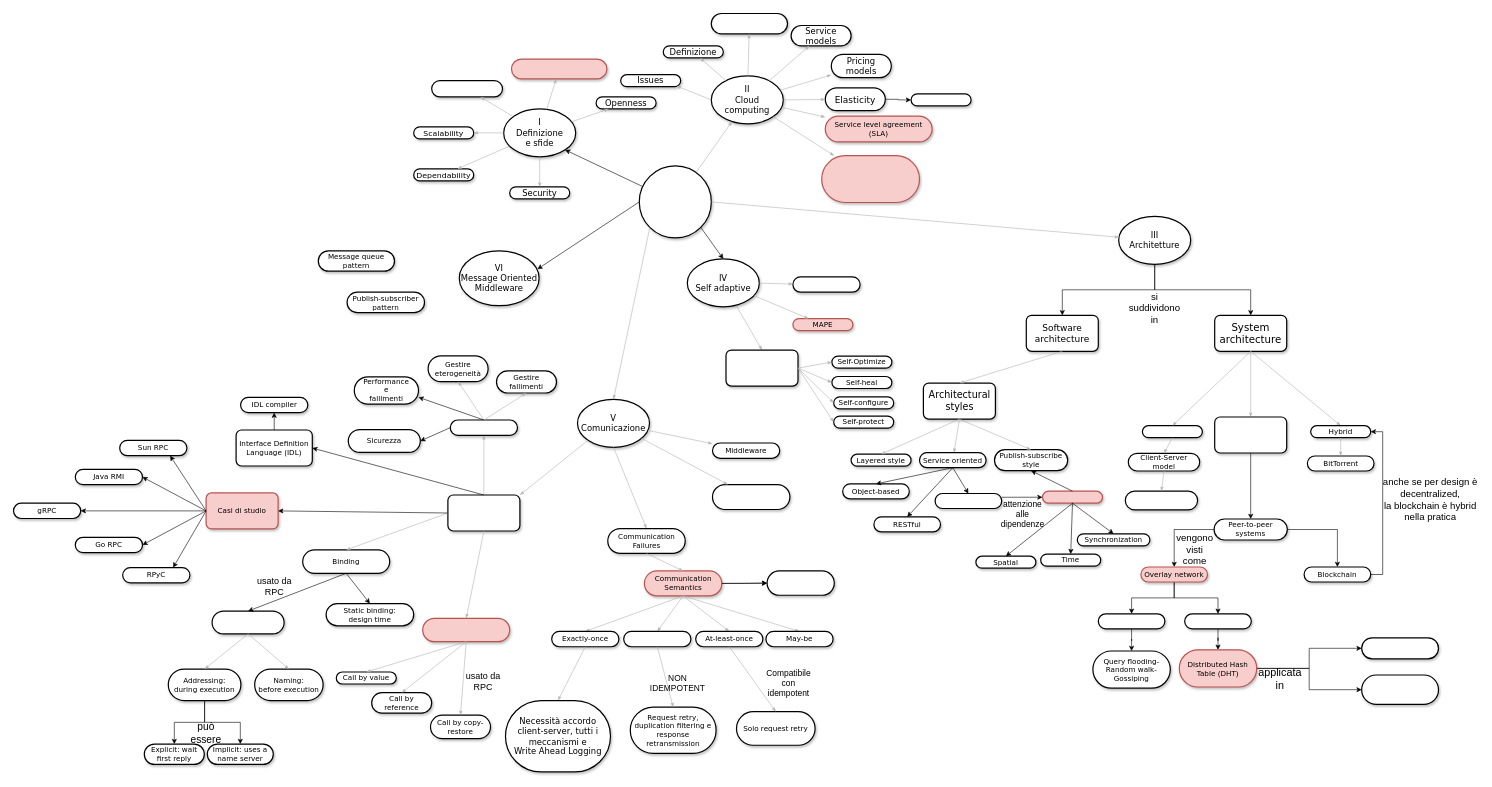
Some shapes in this 1492 by 787 pixel diagram are drawn without their labels. The shapes that lost their labels are listed below. From the top down, each one's centre as x and y in pixels, then its label:
At [749,24]: "Deployment models".
At [467,89]: "Heterogenity".
At [559,69]: "Distribution transparency".
At [941,100]: "Load balancer".
At [870,179]: "Service level indicator & Service level objective (SLI & SLO)".
At [675,202]: "Sistemi distribuiti".
At [827,285]: "Esempio in EC2".
At [762,369]: "Caratteristiche fondamentali".
At [484,428]: "Problemi e sfide".
At [1172,432]: "Centralized".
At [1251,436]: "Decentralized architecture".
At [484,514]: "RPC".
At [751,497]: "Communication Type".
At [969,501]: "Microservices".
At [1072,498]: "Decoupling".
At [1162,501]: "Multi-tiered architectures".
At [801,584]: "Definizione idempotent".
At [248,623]: "Dynamic binding: run time".
At [466,630]: "Parameter passing methods".
At [657,639]: "At-most-once".
At [1132,621]: "Unstructured".
At [1218,621]: "Structured".
At [1400,648]: "CHORD & Kademlia".
At [1400,690]: "InterPlanetary File System (IPFS)".
